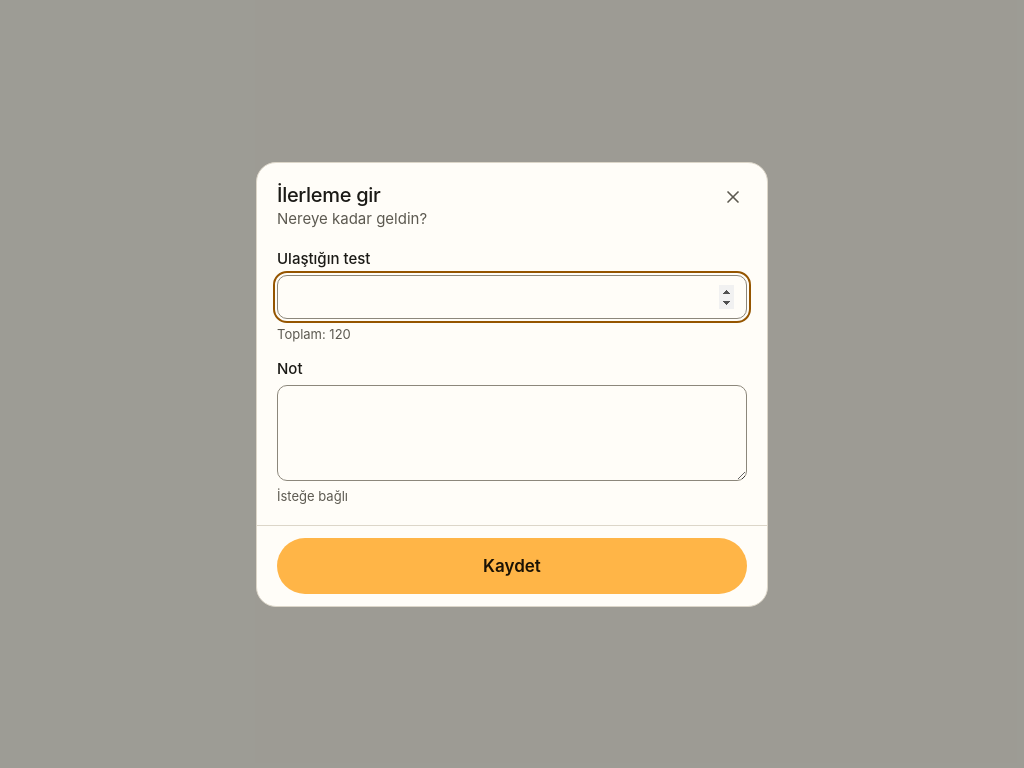
Test: ProgressSheet › boş girdiyle kaydetmez ve hata gösterir
The width and height of the screenshot is (1024, 768).
What coordinates should you click on to do the following:
click the button "Kaydet"
I would click on:
 (512, 566)
Its box is [277,538,747,594].
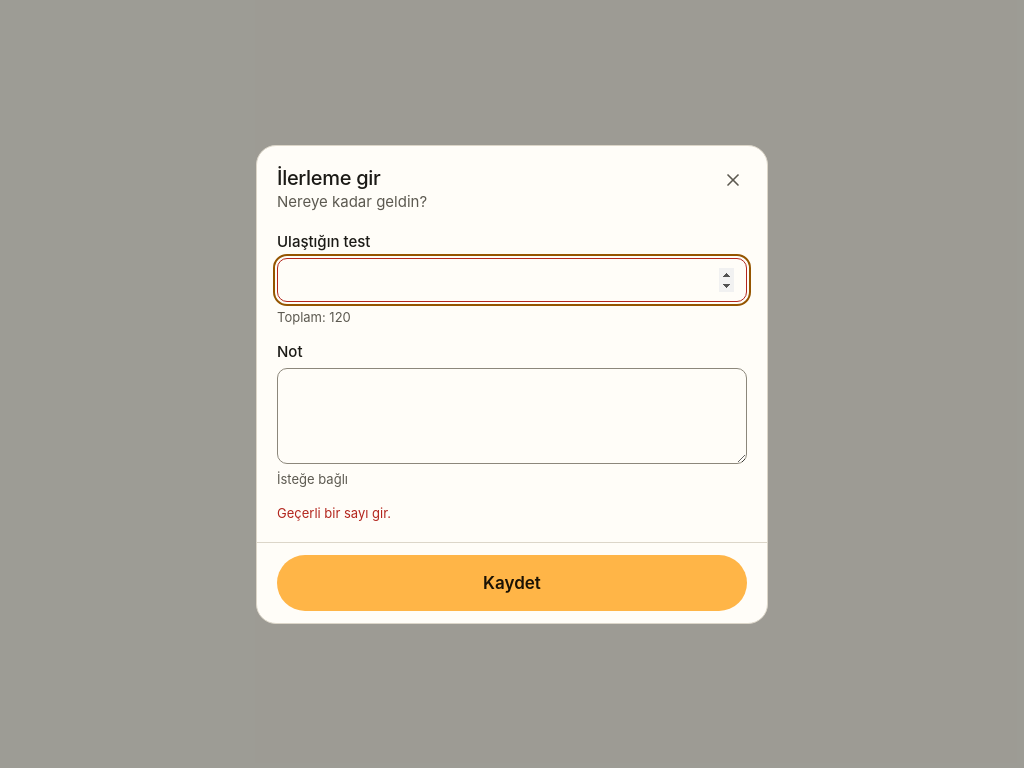
Check: the message reads "Geçerli bir sayı gir.", box [277,504,391,520]
